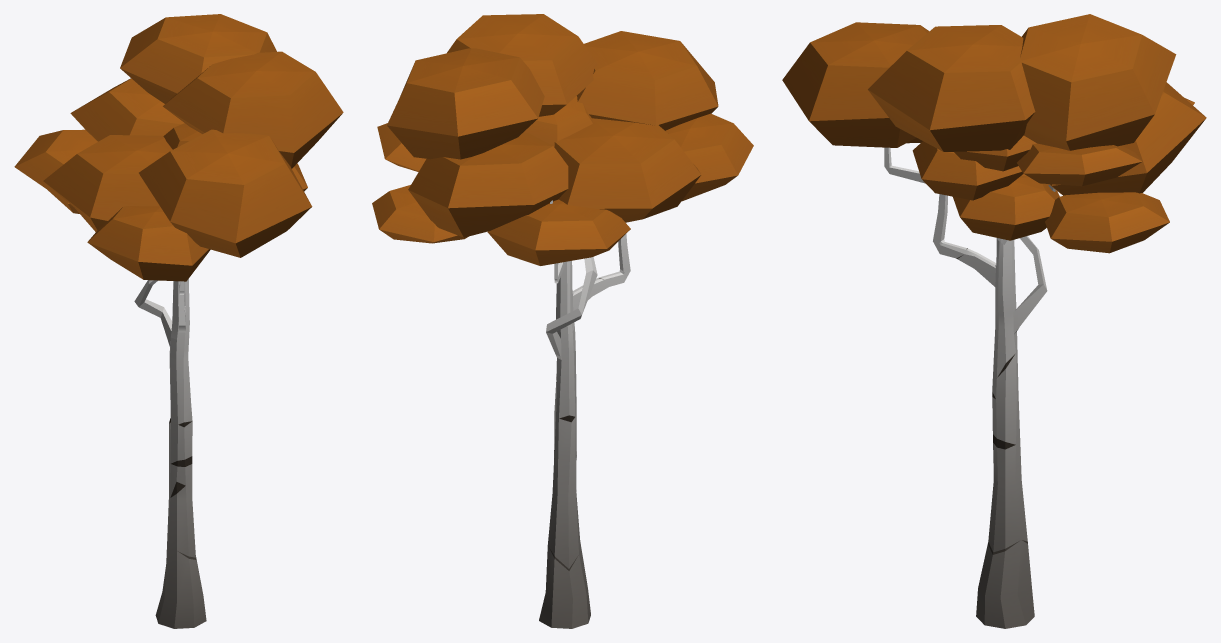
Rendered from arbol11.fbx.
3 renders of one model, left to right at view 1: azimuth 30°, elevation 25°; view 2: azimuth 150°, elevation 25°; view 3: azimuth 270°, elevation 25°, orthographic. The views are drawn at different scales.
Visible parts, largest first — view 1: arbol11; view 2: arbol11; view 3: arbol11.
Boxes of the visible parts, x1,y1,x2,y2 form: arbol11: (14,14,343,628); arbol11: (372,14,753,628); arbol11: (782,14,1206,628).
Bounding box in the file's own units: 1433 × 2698 × 1701.
